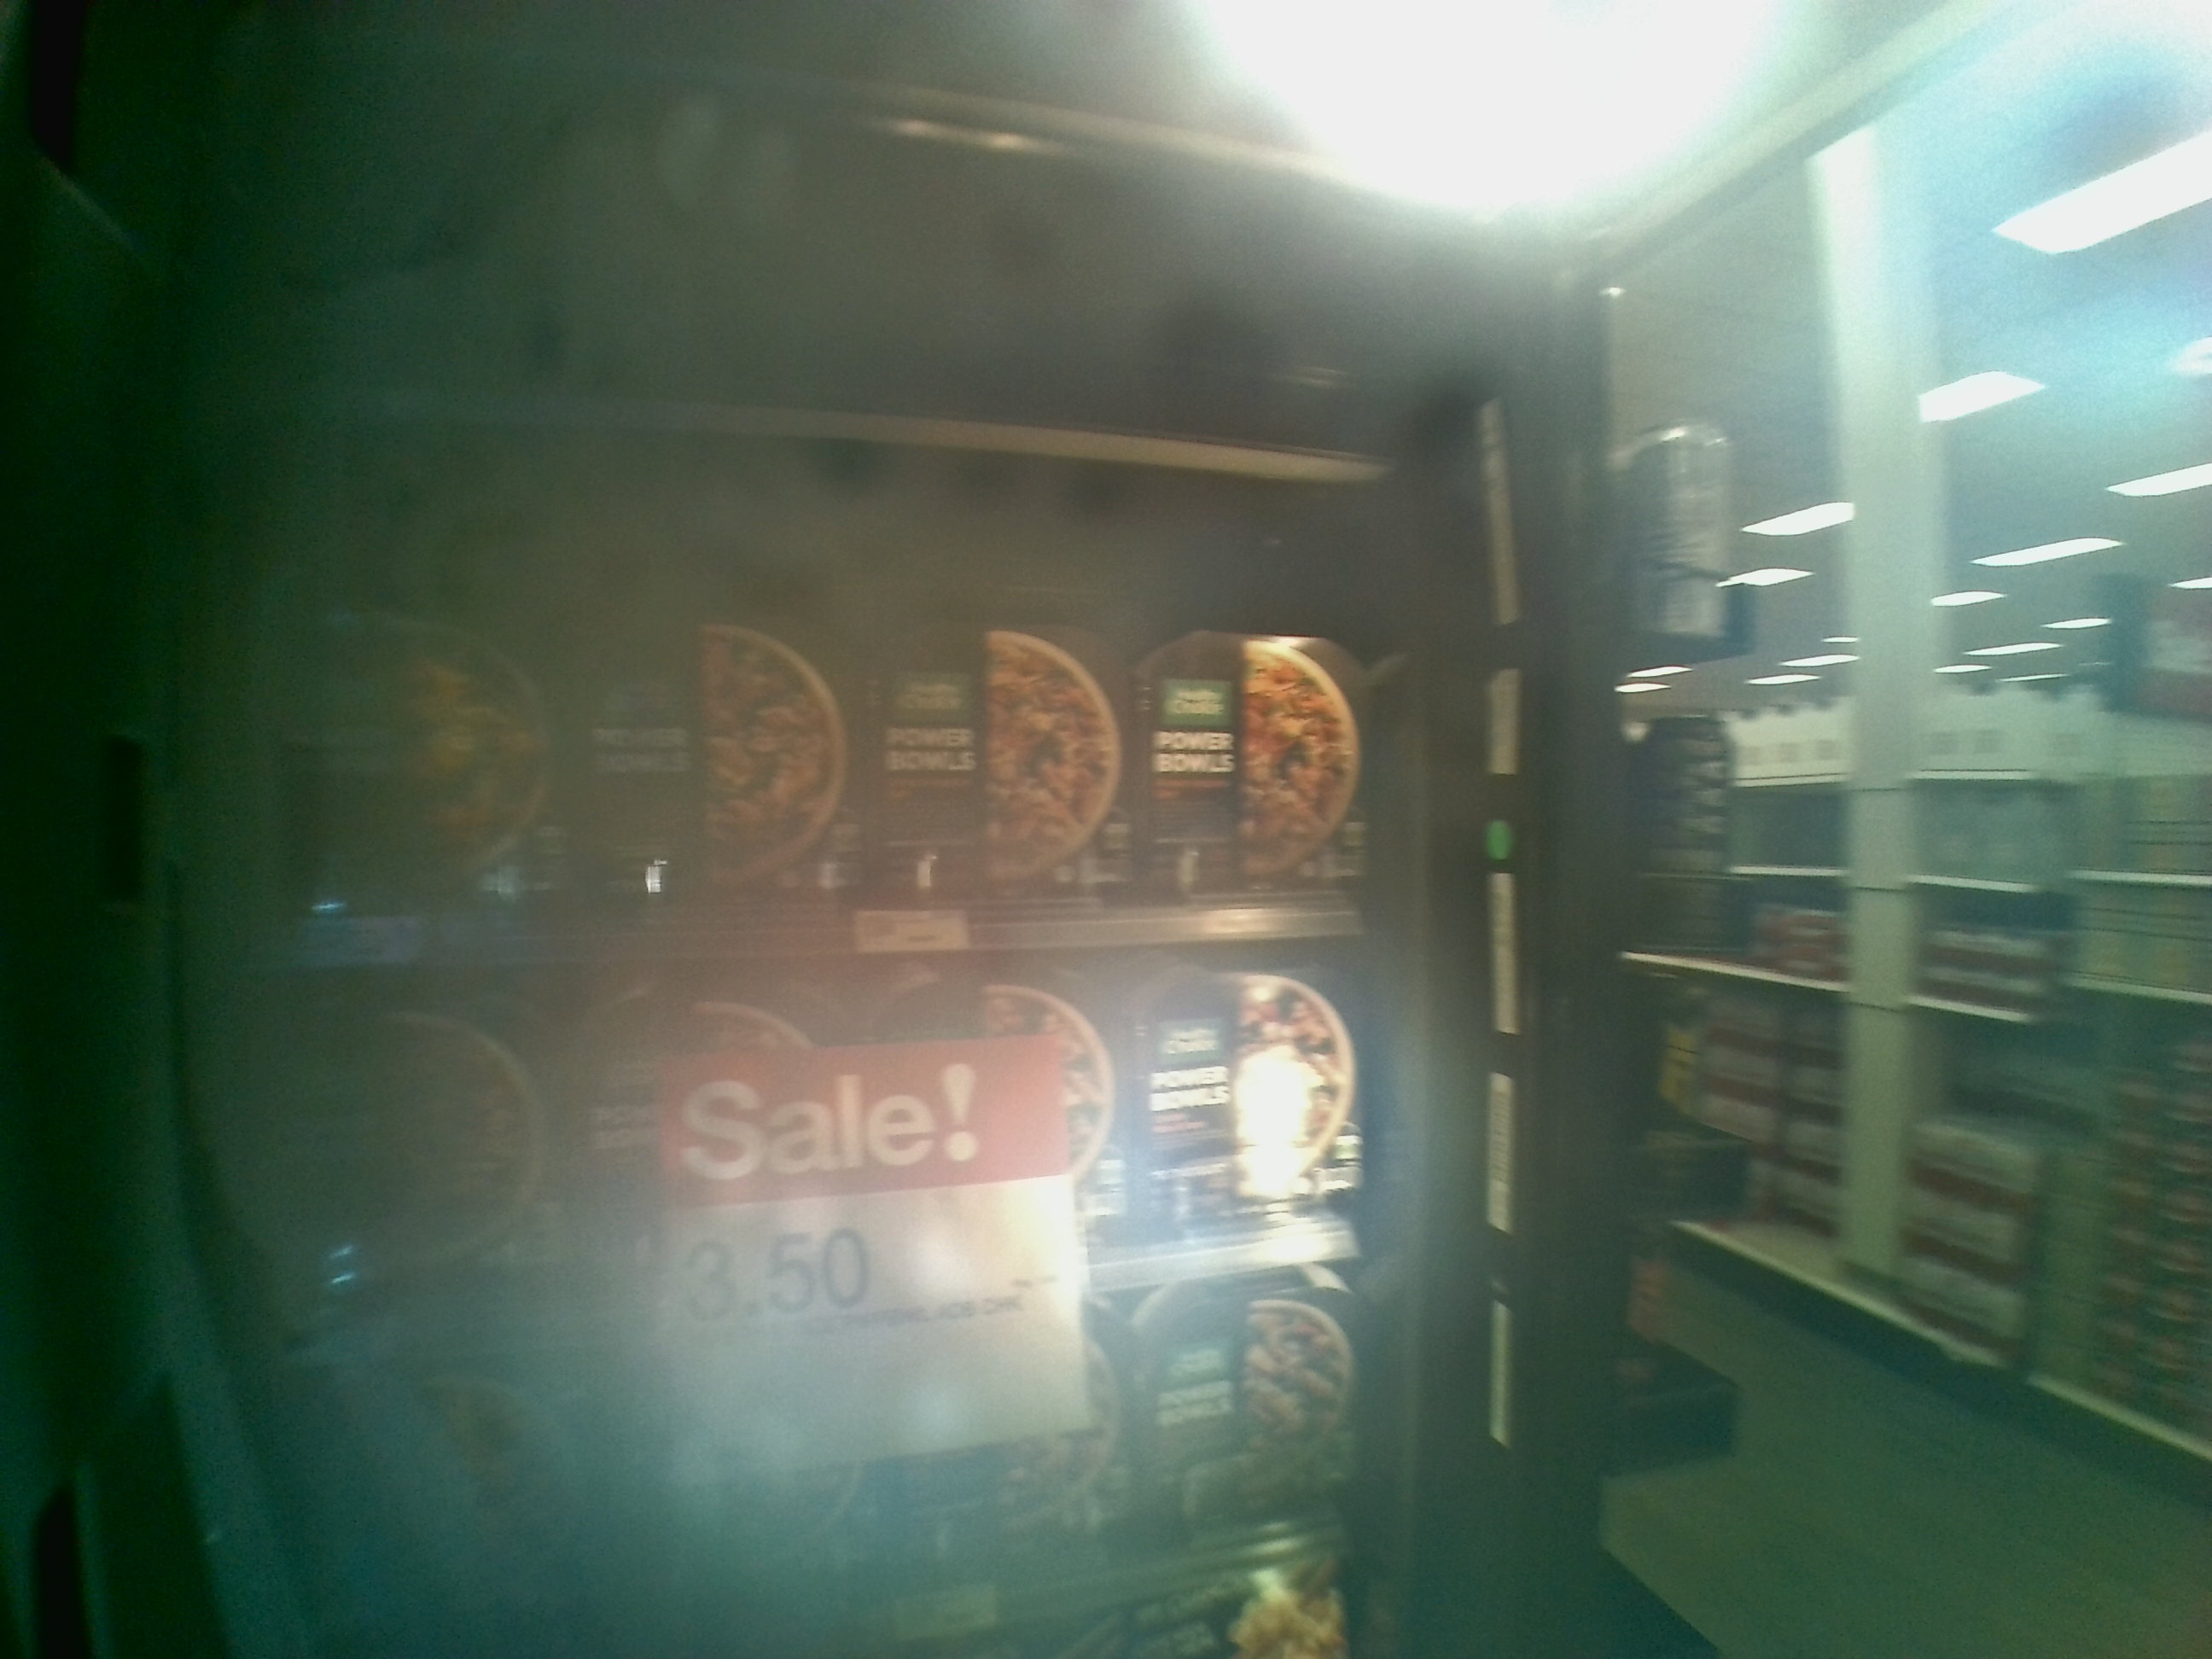shelf: (251, 403, 1392, 955), (256, 948, 1437, 1349)
